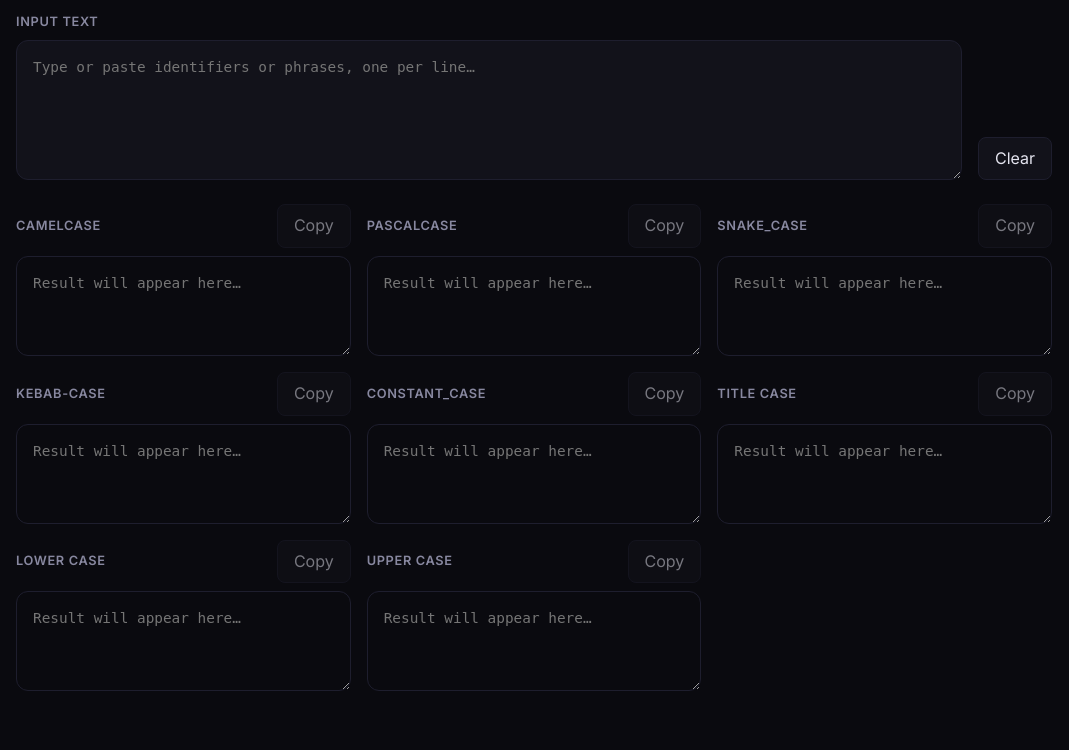
Test: CaseConverterTool actions › copies a specific result and reports success feedback
Step 1. Type "hello world" into the text box labelled "Input text" → coordinates (489, 110), box [16, 40, 962, 180]
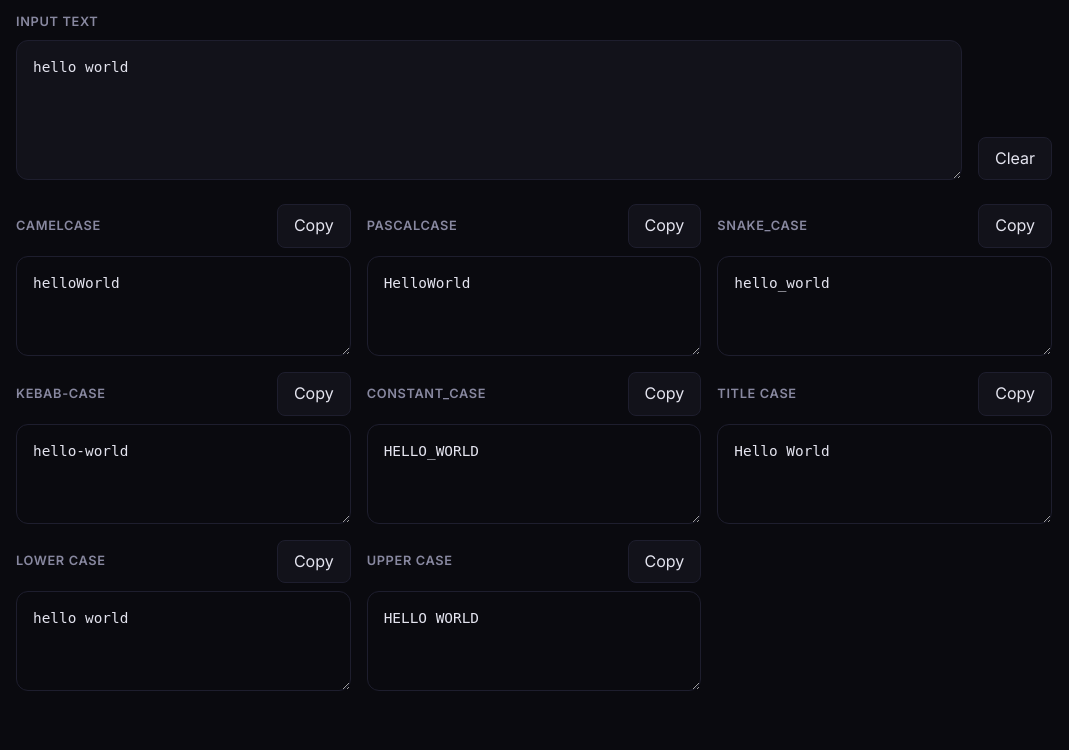
Step 2. Click the button with aria-label "Copy kebab-case result" → coordinates (314, 394), box [277, 372, 351, 416]
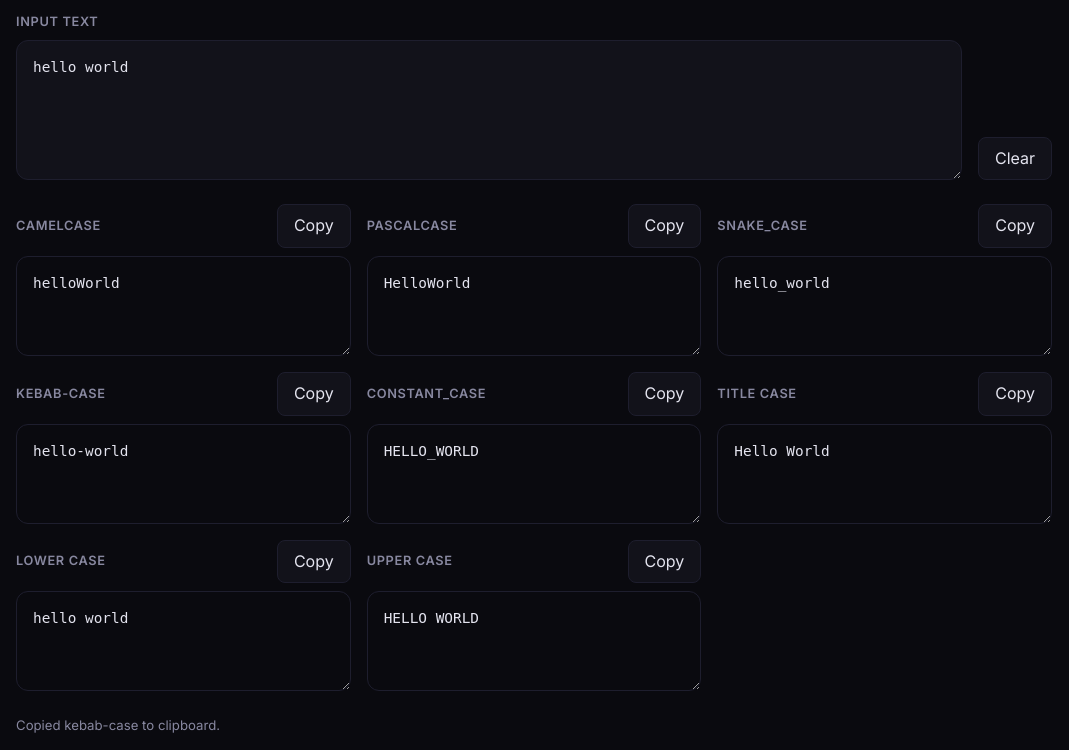
Check: the message reads "Copied kebab-case to clipboard.", box [16, 717, 220, 733]
